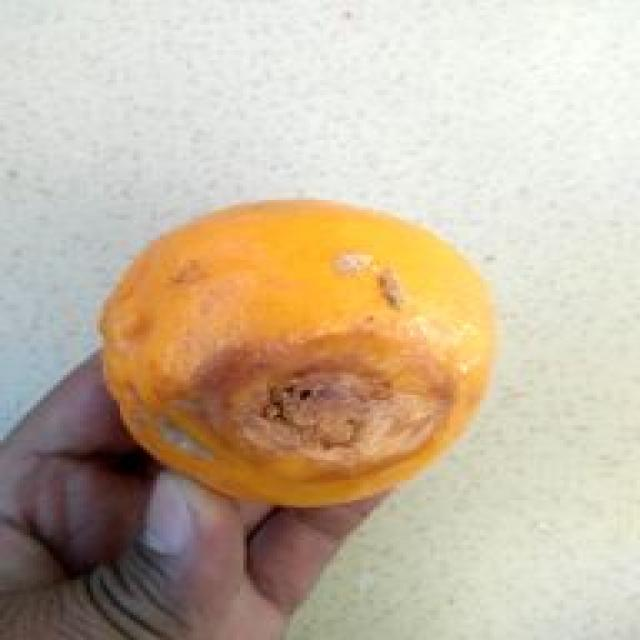Bad_Orange: (105, 201, 492, 506)
